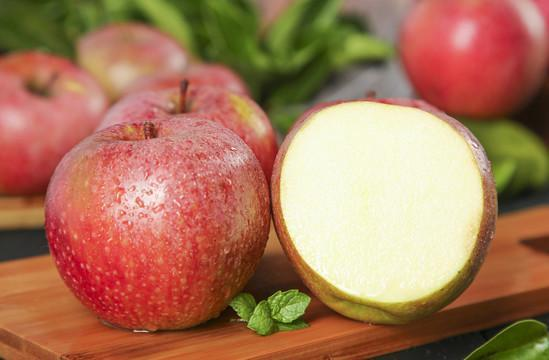apple: (269, 98, 498, 322), (50, 115, 271, 332), (97, 81, 277, 181), (402, 1, 549, 118), (1, 53, 110, 194), (73, 20, 192, 101)
